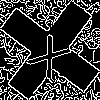X: (25, 25, 79, 81)
